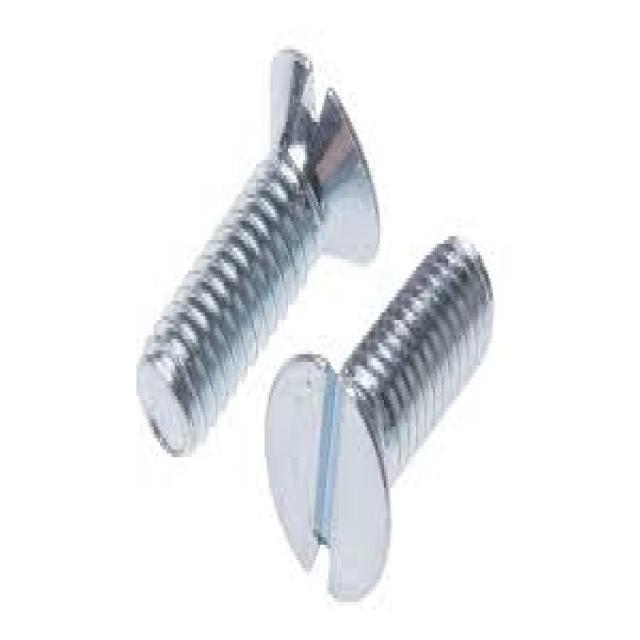Screw: (134, 50, 380, 461), (262, 236, 495, 606)
